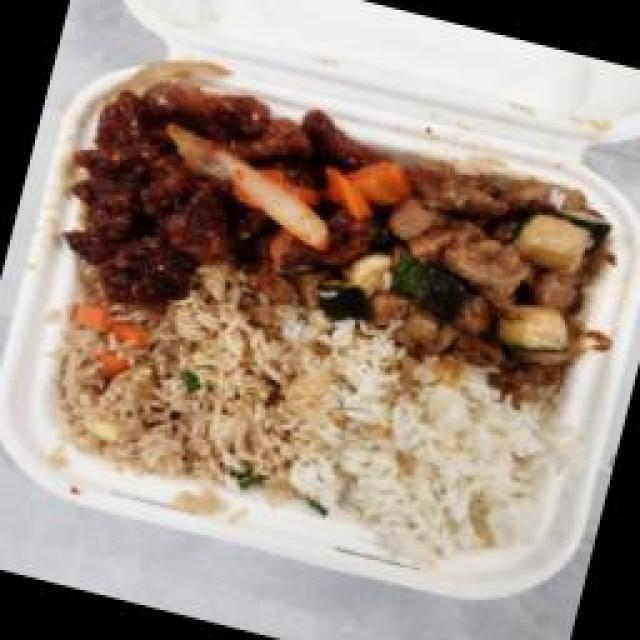Beijing Beef: (35, 35, 400, 360)
Fried Rice: (33, 253, 353, 518)
Kung Pao Chicken: (345, 140, 640, 403)
White Steamed Rice: (283, 333, 583, 578)
